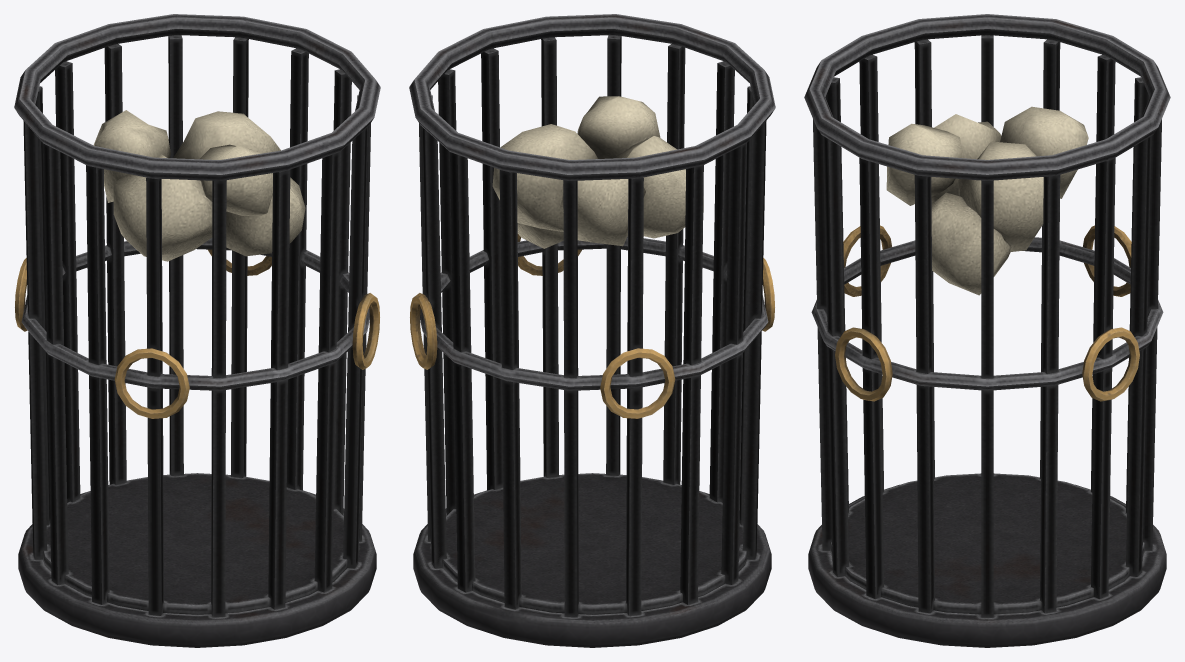
Rendered from TrashCan.fbx.
3 views of the same model, side by side, from view 1: azimuth 30°, elevation 25°; view 2: azimuth 150°, elevation 25°; view 3: azimuth 270°, elevation 25° (orthographic).
Visible parts, largest first — view 1: TrashCan; view 2: TrashCan; view 3: TrashCan.
Part boxes in pixels (x1,y1,x2,y2): TrashCan: (14,14,380,647); TrashCan: (409,14,775,647); TrashCan: (804,14,1170,647).
Size of the model in its own units: 174 by 254 by 174.
